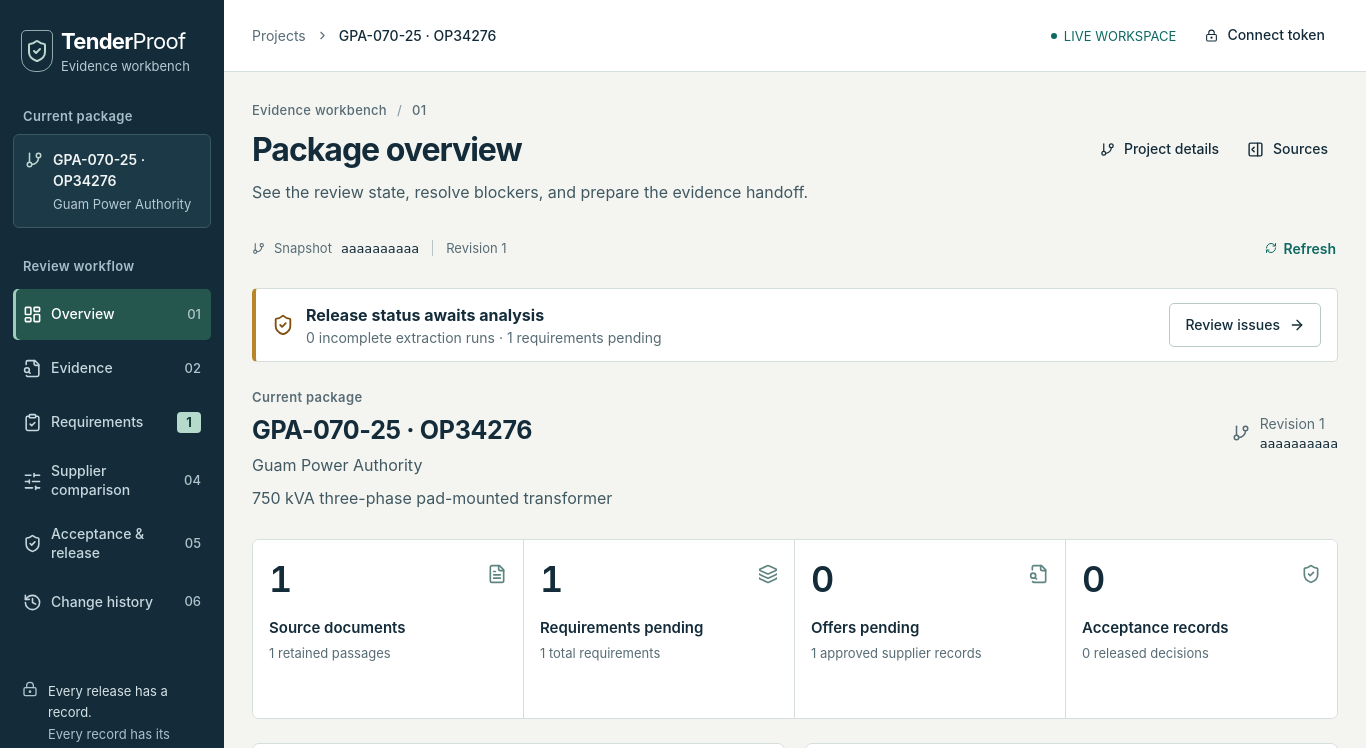
Test: live engineering workspace › shows currency and explicit price basis null with a neutral heading
Step 1. Click the button "Requirements 1" → (112, 423), box [13,397,211,448]
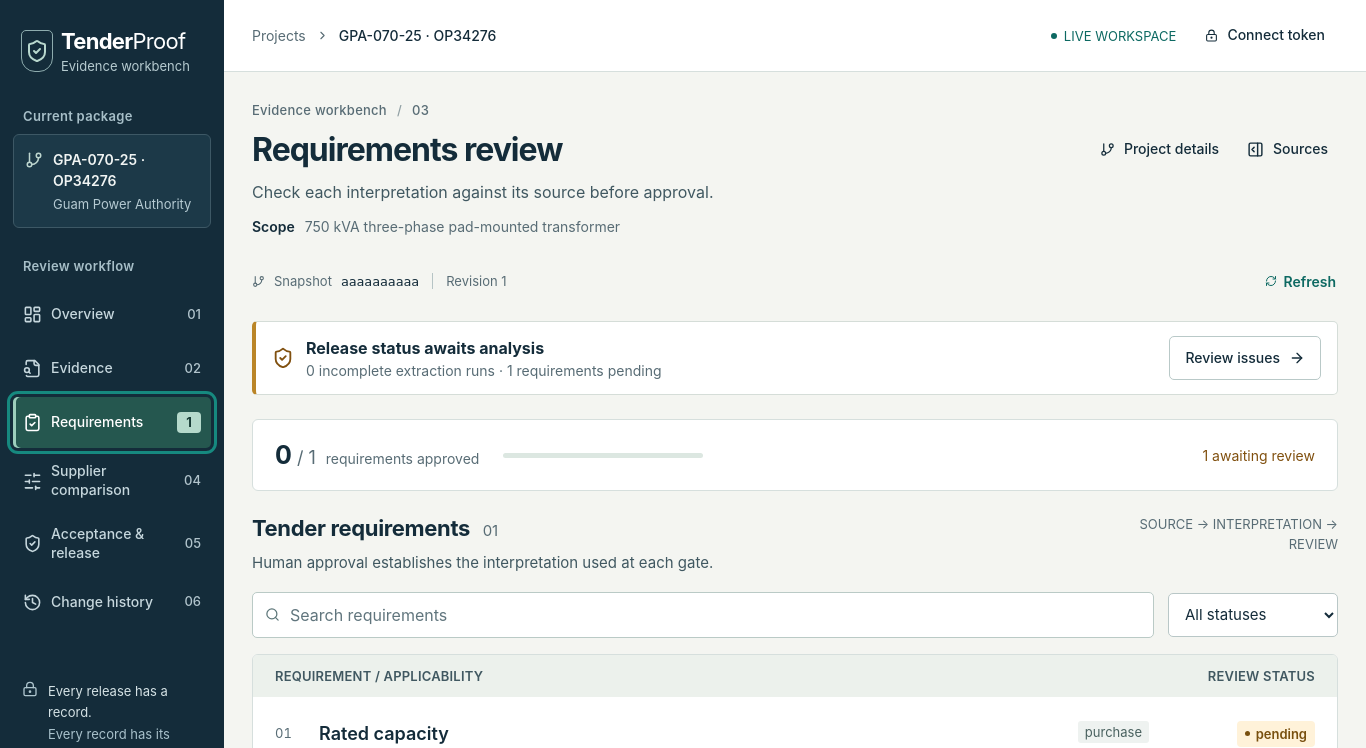
Step 2. Click the button with aria-label "Toggle source inspector" → (1288, 149), box [1237,127,1338,171]
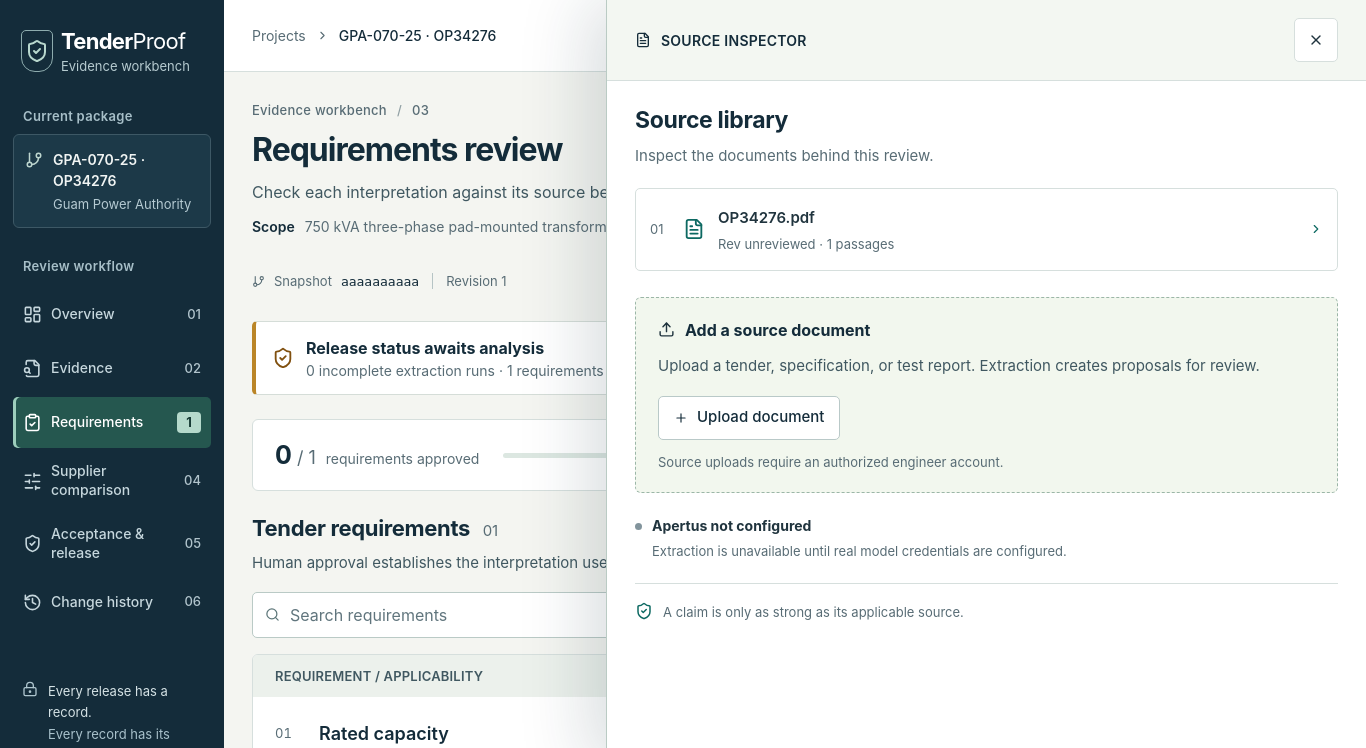
expect the heading "Rated capacity" is shown: met, box [319,723,449,744]
Step 3. Click the button "Supplier comparison 04" → (112, 481), box [13,451,211,511]
(page scrolled)
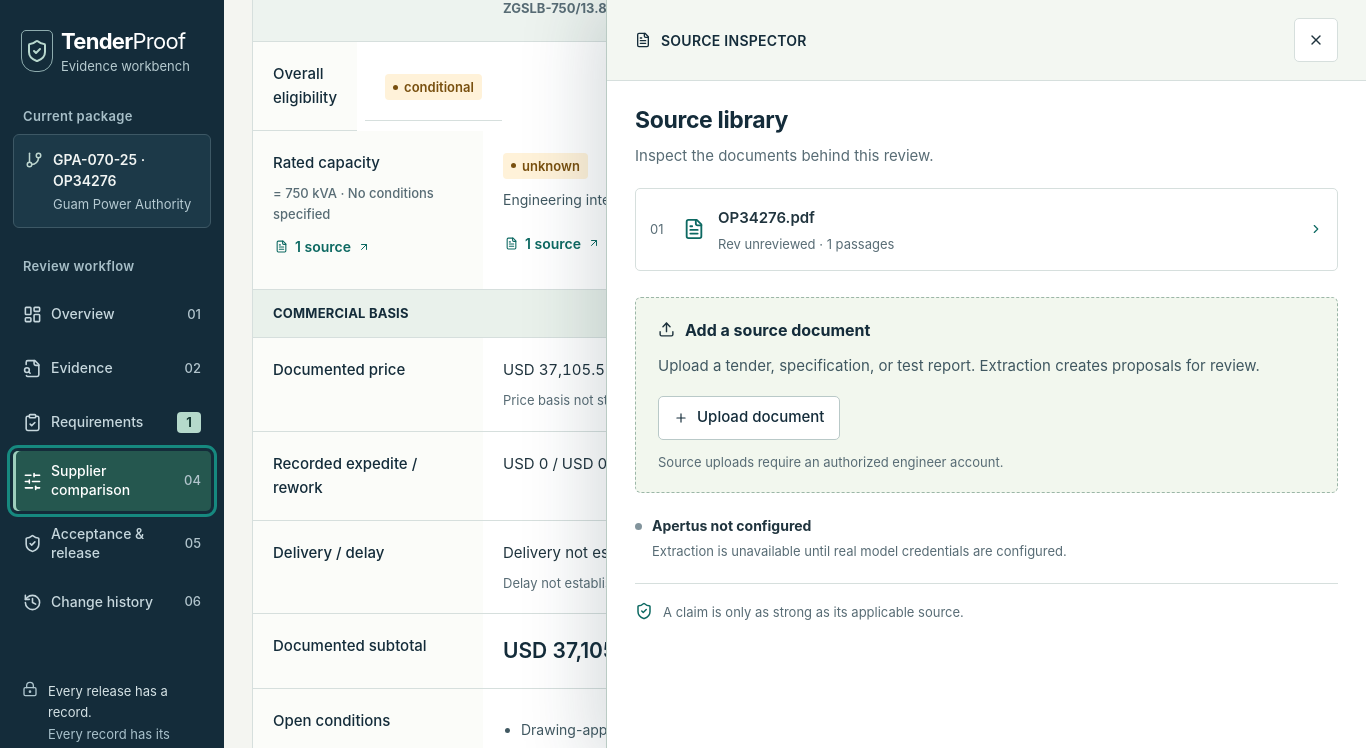
expect the row "Documented price USD 37,105.50 Price basis not stated" is shown: met, box [253,337,1337,431]
